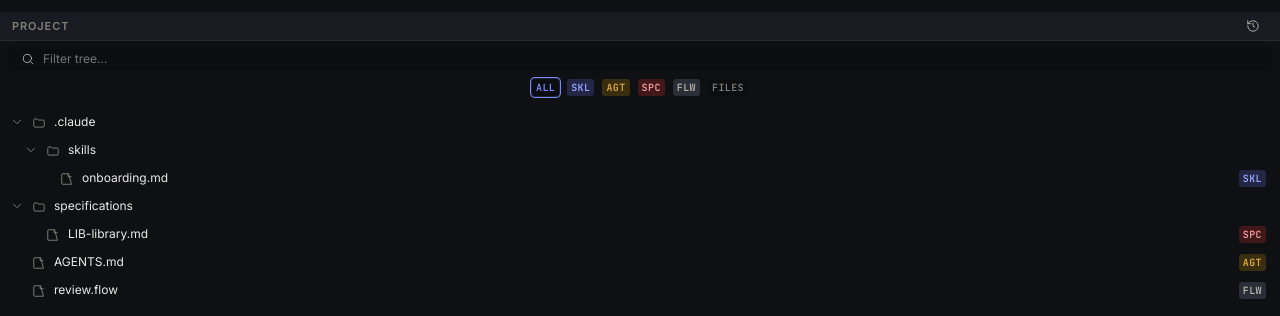
Library filesystem tree › opens the rename input under a browser's flush ordering
Right-click the text "onboarding.md" at (125, 178), box x1=82 y1=170 x2=168 y2=185
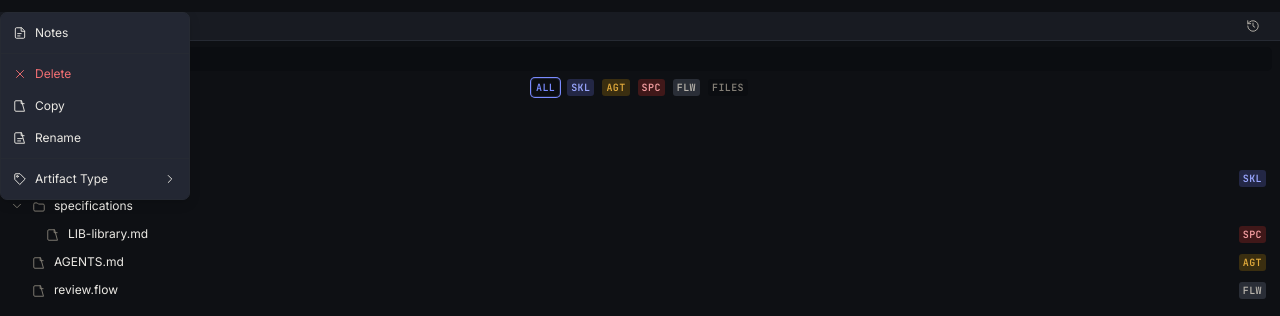
Click the text "Rename" at (47, 138), box x1=13 y1=130 x2=81 y2=145
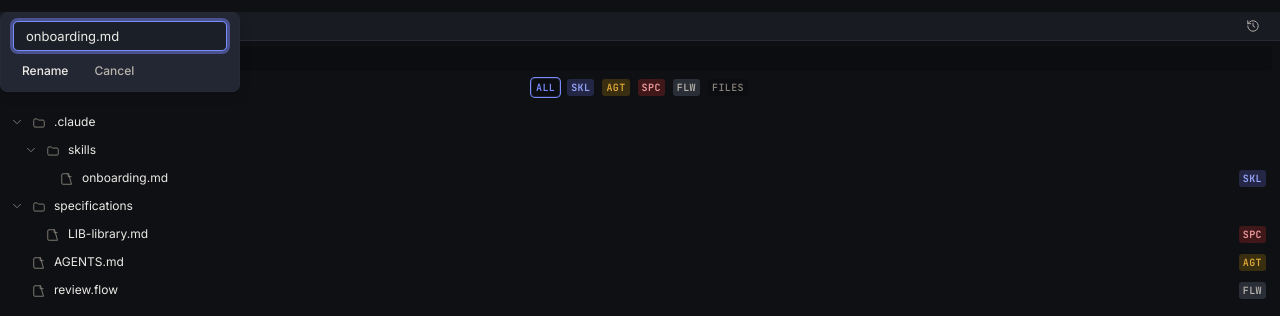
Expected: the element with class "menu" is shown, x1=0 y1=12 x2=240 y2=92
Expected: the field named "New name" is shown, x1=13 y1=21 x2=227 y2=51
